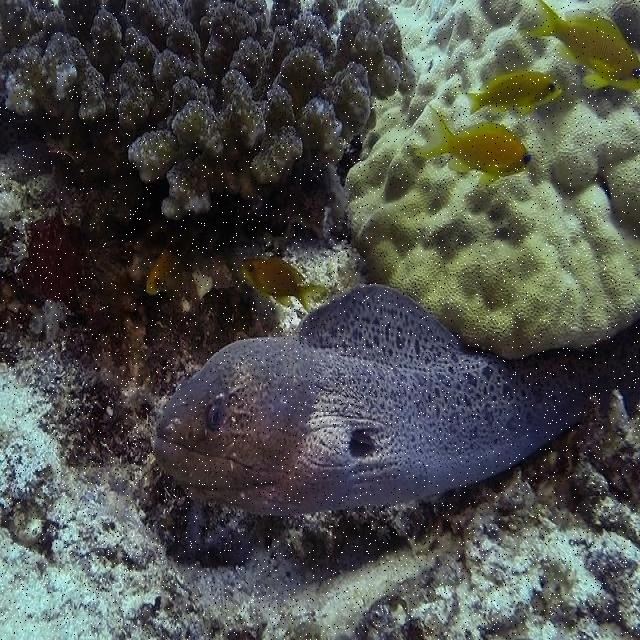fish: (155, 285, 639, 520), (243, 106, 532, 310), (520, 1, 639, 90), (465, 72, 564, 120), (145, 246, 171, 297)
reefs: (350, 2, 639, 360), (1, 0, 400, 221)
